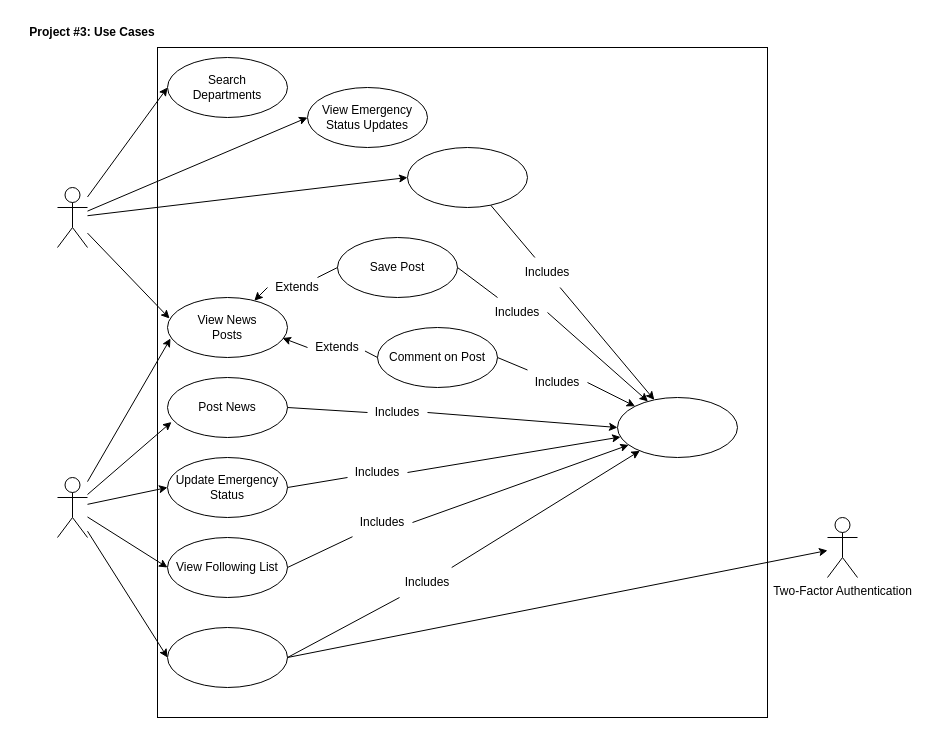
Some shapes in this 929 by 735 pixel diagram are drawn without their labels. Here are the shapes that lost their labels. From the top down, the centre of each, then its label:
At [467,177]: "Follow/Unfollow Department".
At [72,217]: "Citizen".
At [677,427]: "Log In".
At [72,507]: "Town Administrator".
At [227,657]: "Send Emergency Alert".
